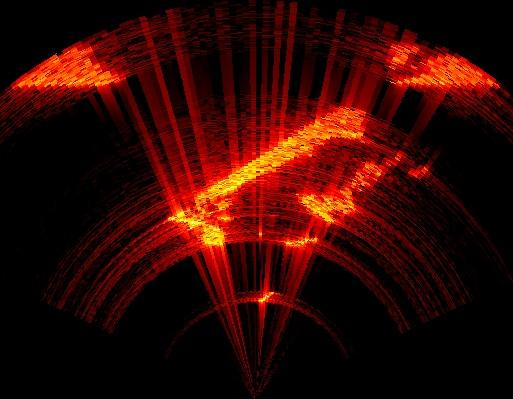shipwreck: (169, 107, 365, 244), (299, 151, 404, 223), (11, 43, 124, 89), (395, 54, 497, 87), (389, 42, 419, 69), (285, 238, 316, 246), (410, 165, 428, 177)
